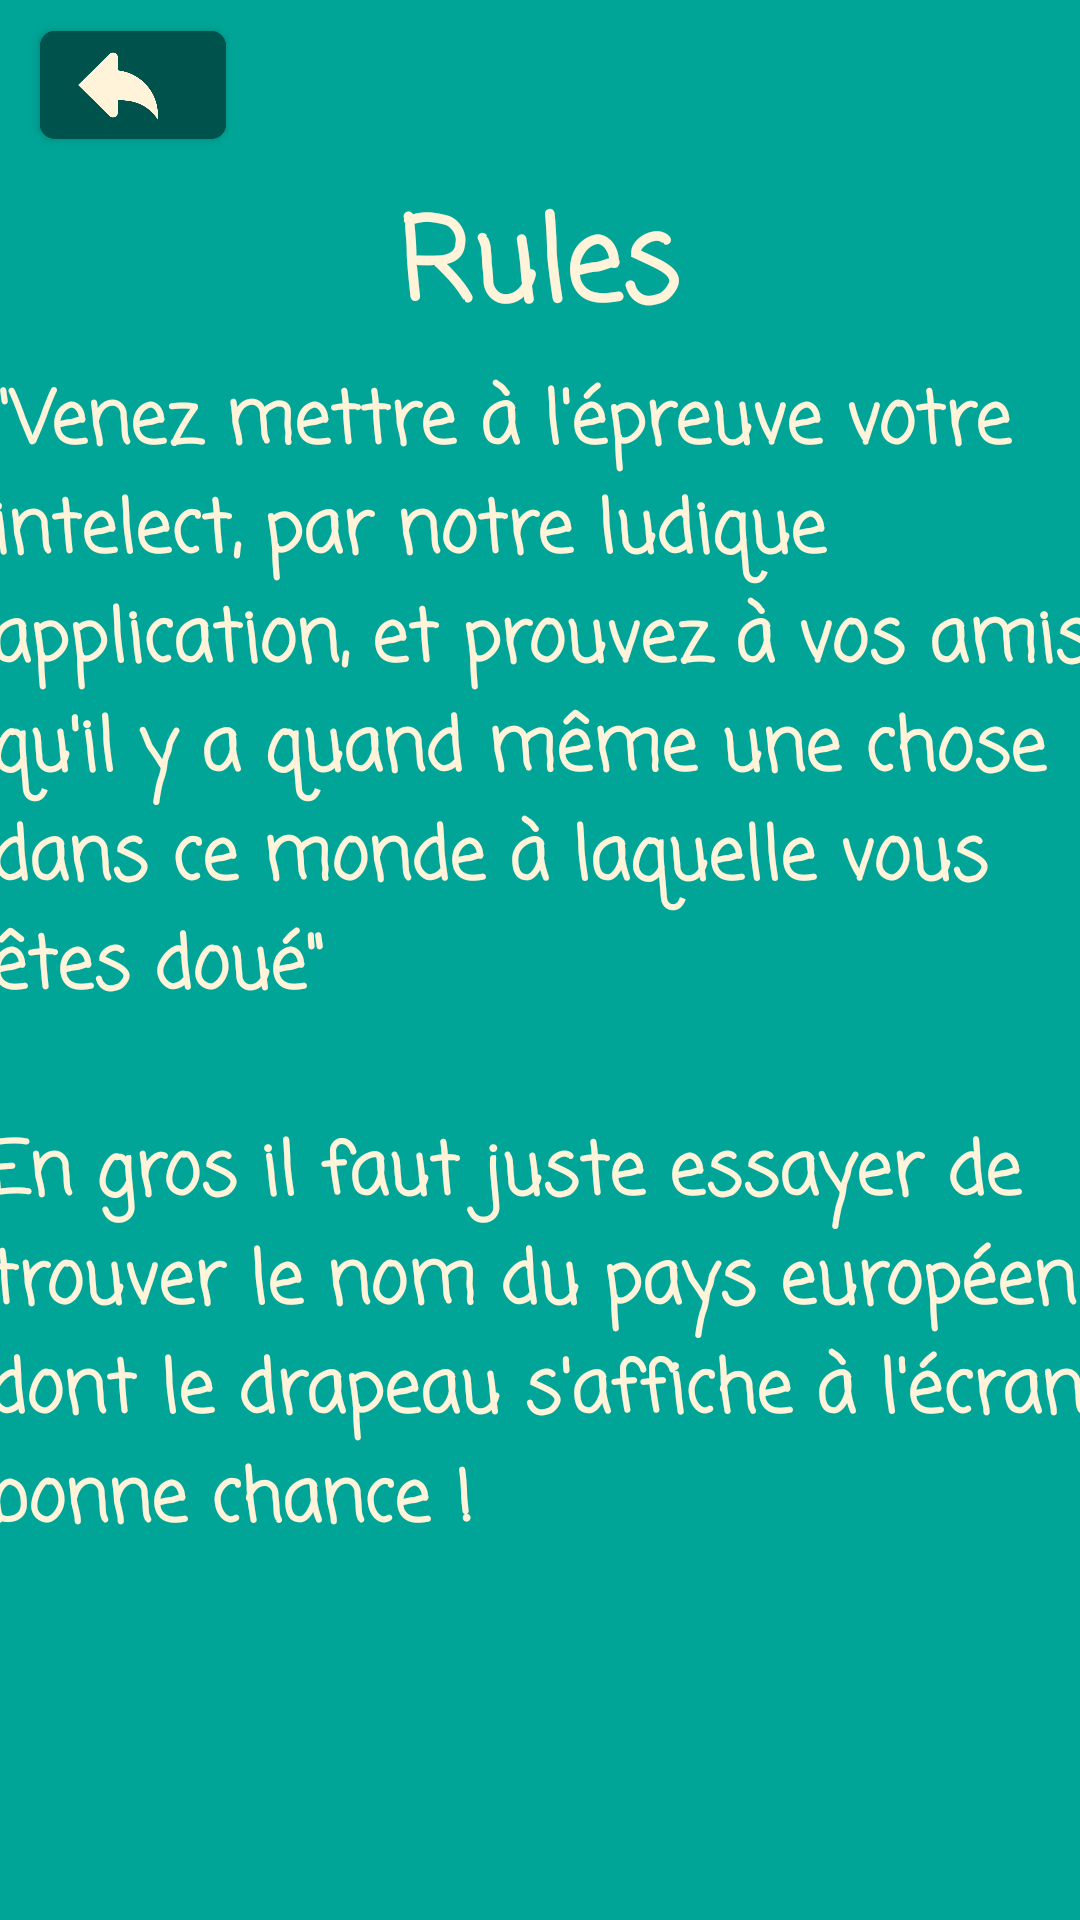

Named icons in this screenshot (1080px x 1920px) and their centers, (x,y):
fleche: (133,85)
